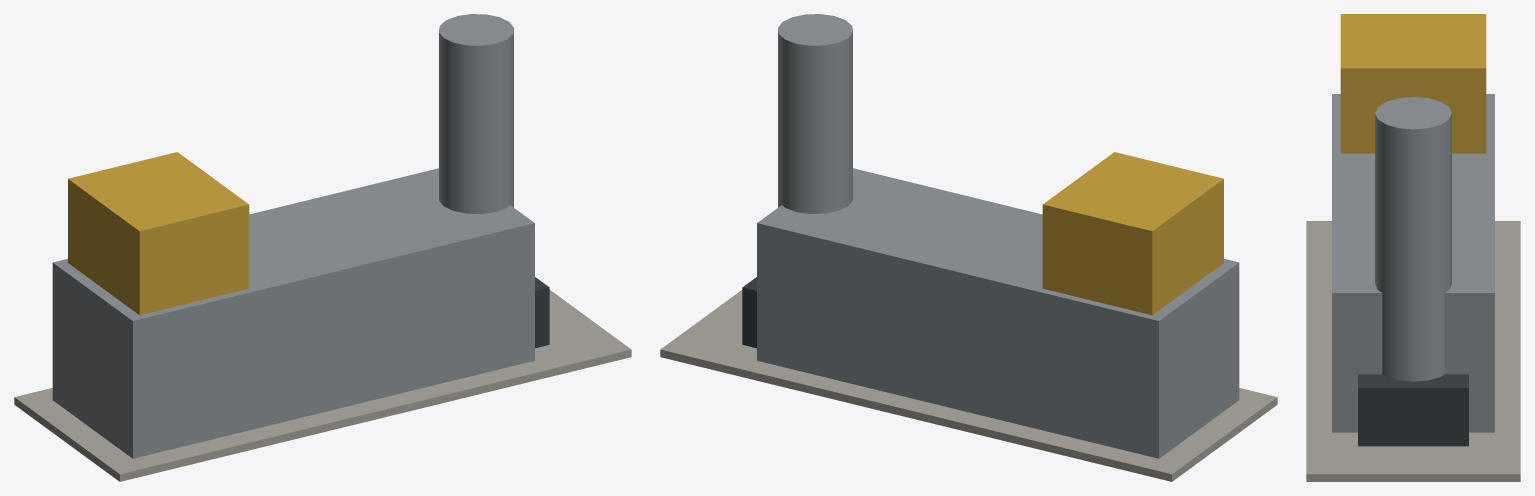
The model's file is gas-turbine.glb.
3 views of the same model, side by side, from view 1: azimuth 30°, elevation 25°; view 2: azimuth 150°, elevation 25°; view 3: azimuth 270°, elevation 25° (orthographic).
Parts seen in each view (by area): view 1: kit-gas-turbine; view 2: kit-gas-turbine; view 3: kit-gas-turbine.
Part boxes in pixels (<box>): kit-gas-turbine: <box>14,14,631,481</box>; kit-gas-turbine: <box>660,14,1277,481</box>; kit-gas-turbine: <box>1306,14,1520,481</box>.
Size of the model in its own units: 14 by 8.2 by 5.
